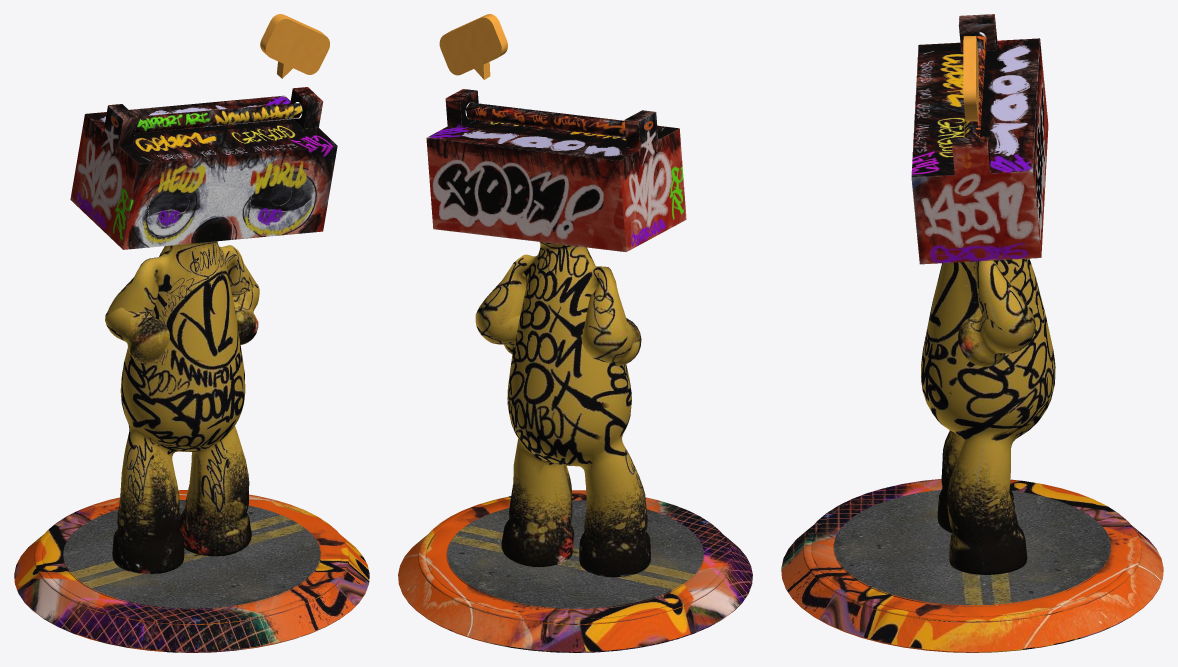
3 renders of one model, left to right at view 1: azimuth 30°, elevation 25°; view 2: azimuth 150°, elevation 25°; view 3: azimuth 270°, elevation 25°, orthographic. The views are drawn at different scales.
Bounding box in the file's own units: 1.45 × 2.43 × 1.45.
Materials: 5 (5 with a texture image).
